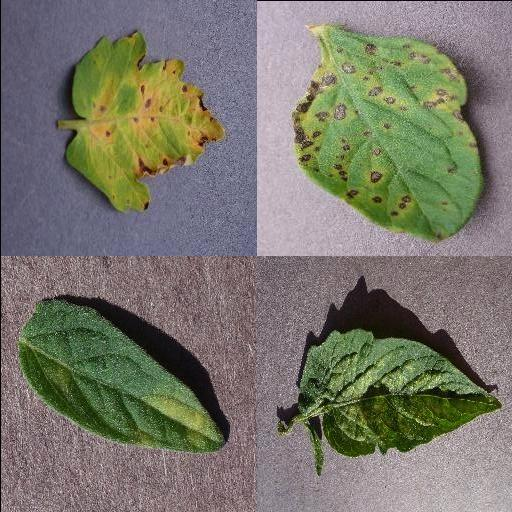Leaf Mold: (18, 301, 224, 454)
Septoria: (289, 27, 479, 243), (63, 30, 225, 212)
Spider Mites: (295, 329, 503, 457)
